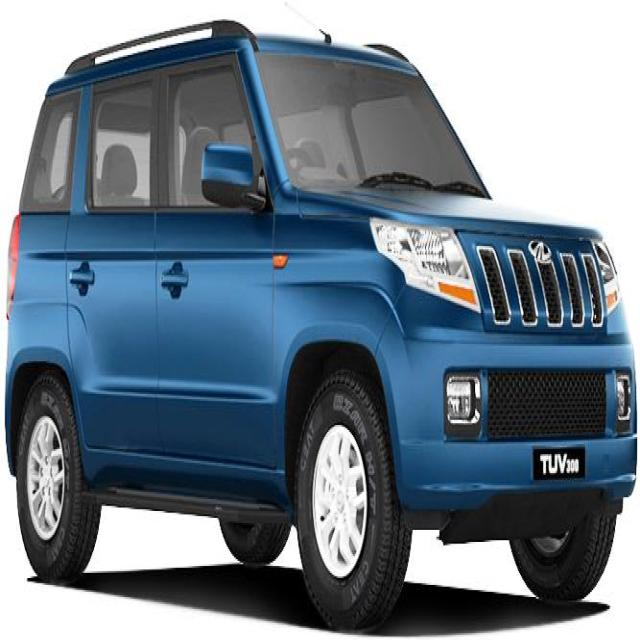light_vehicle: (8, 19, 637, 620)
